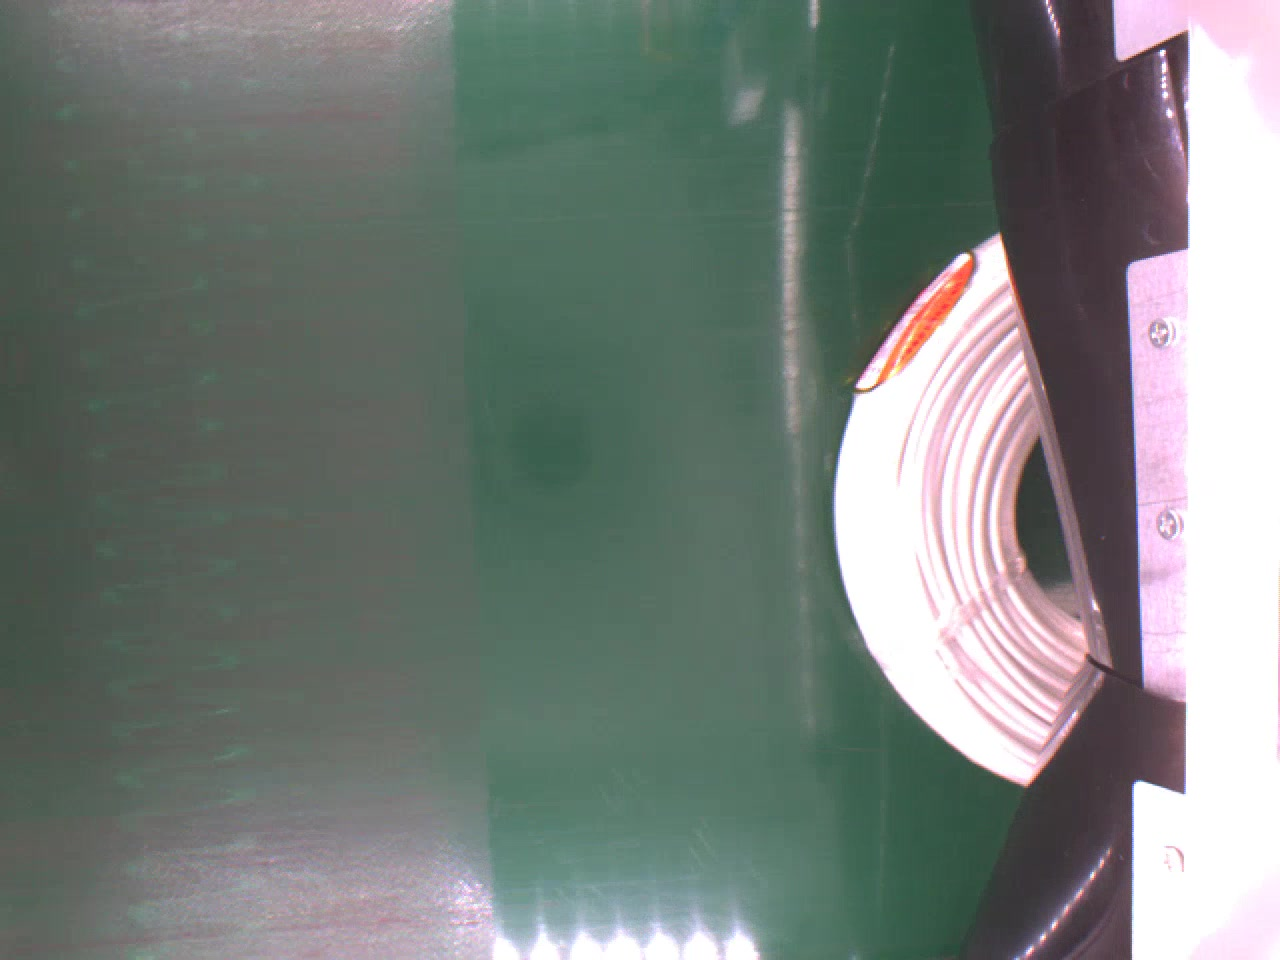white: (829, 228, 1091, 783)
